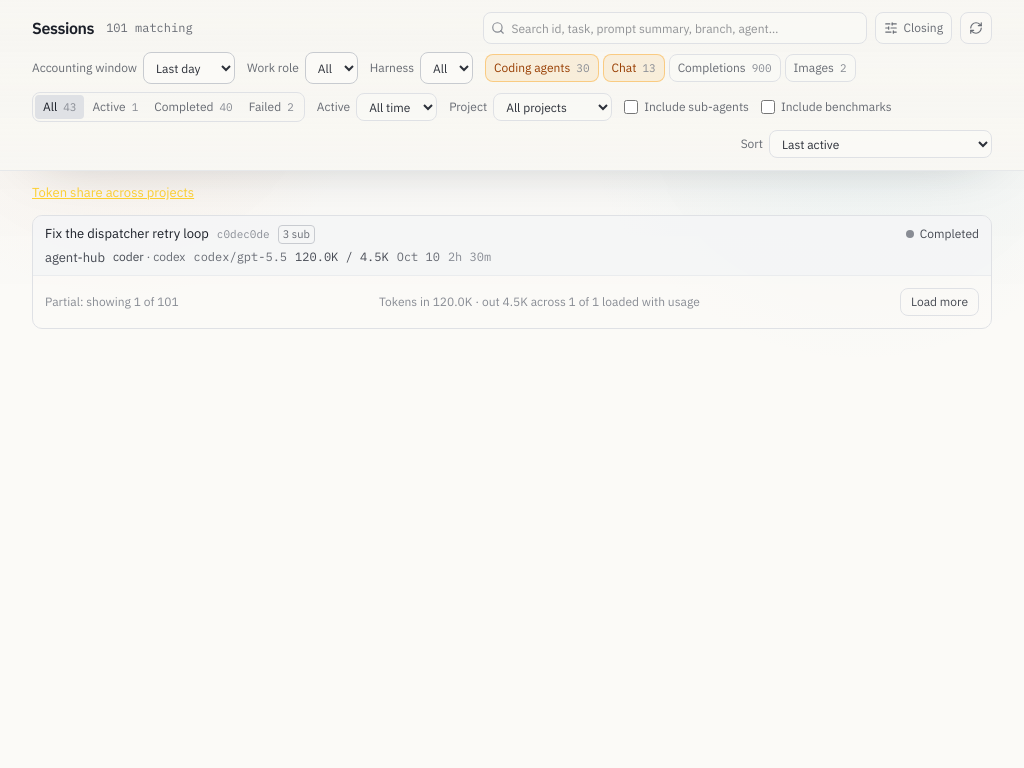
Scenario: SessionsPage › labels a partial list and pages with the server cursor
Expected: the text with test id "sessions-loaded-count" reads "Partial: showing 1 of 101", [45, 294, 179, 309]
Click the button "Load more". click: click(940, 302)
box: [900, 288, 979, 316]
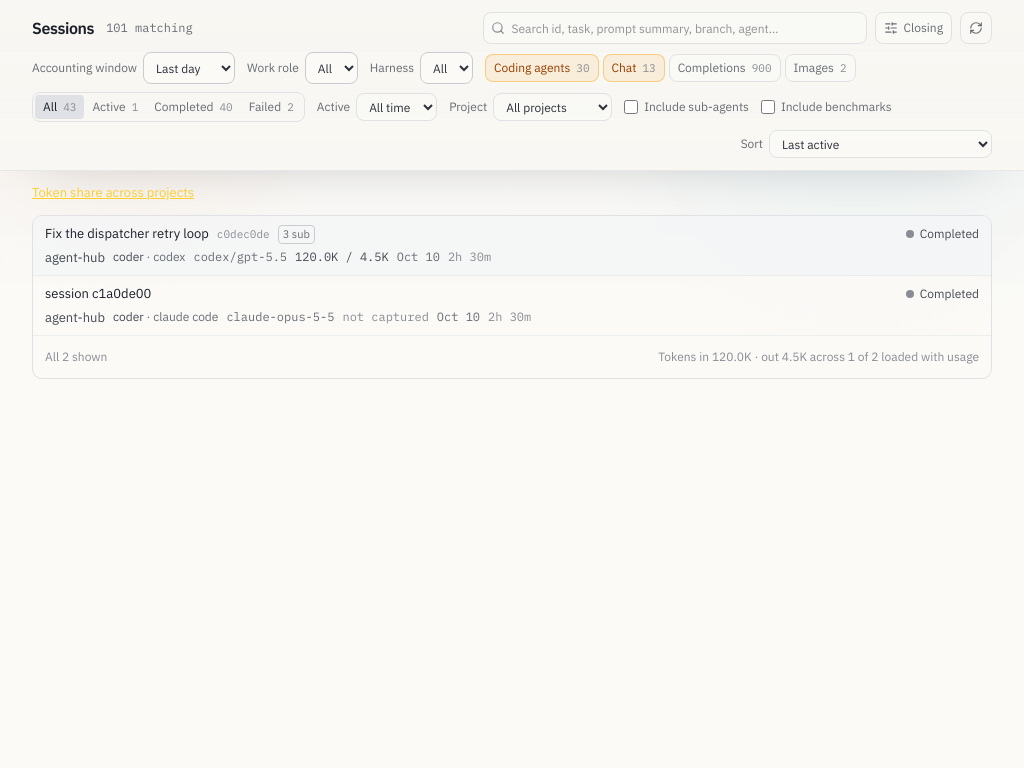
Expected: the number of buttons with test id "session-row" is 2, [33, 216, 991, 276]; [33, 276, 991, 336]
